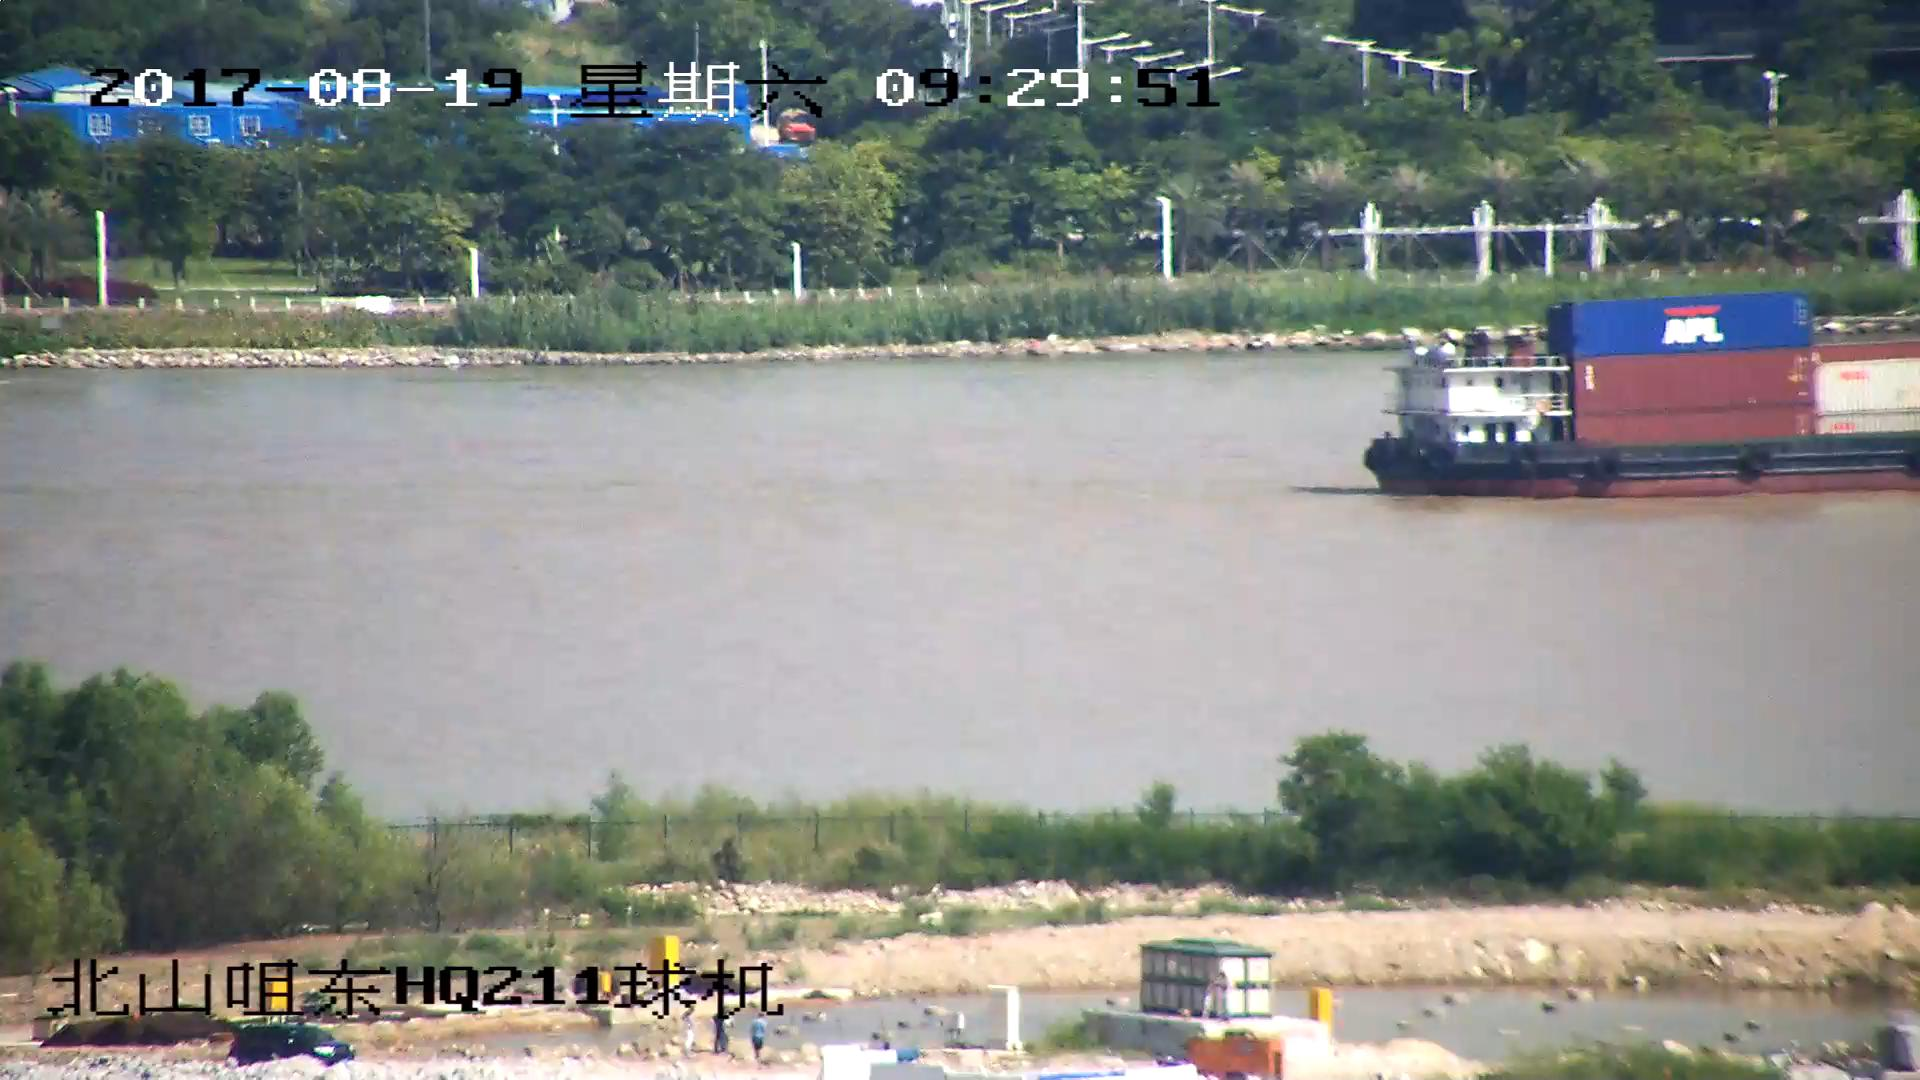container ship: (1359, 299, 1920, 502)
